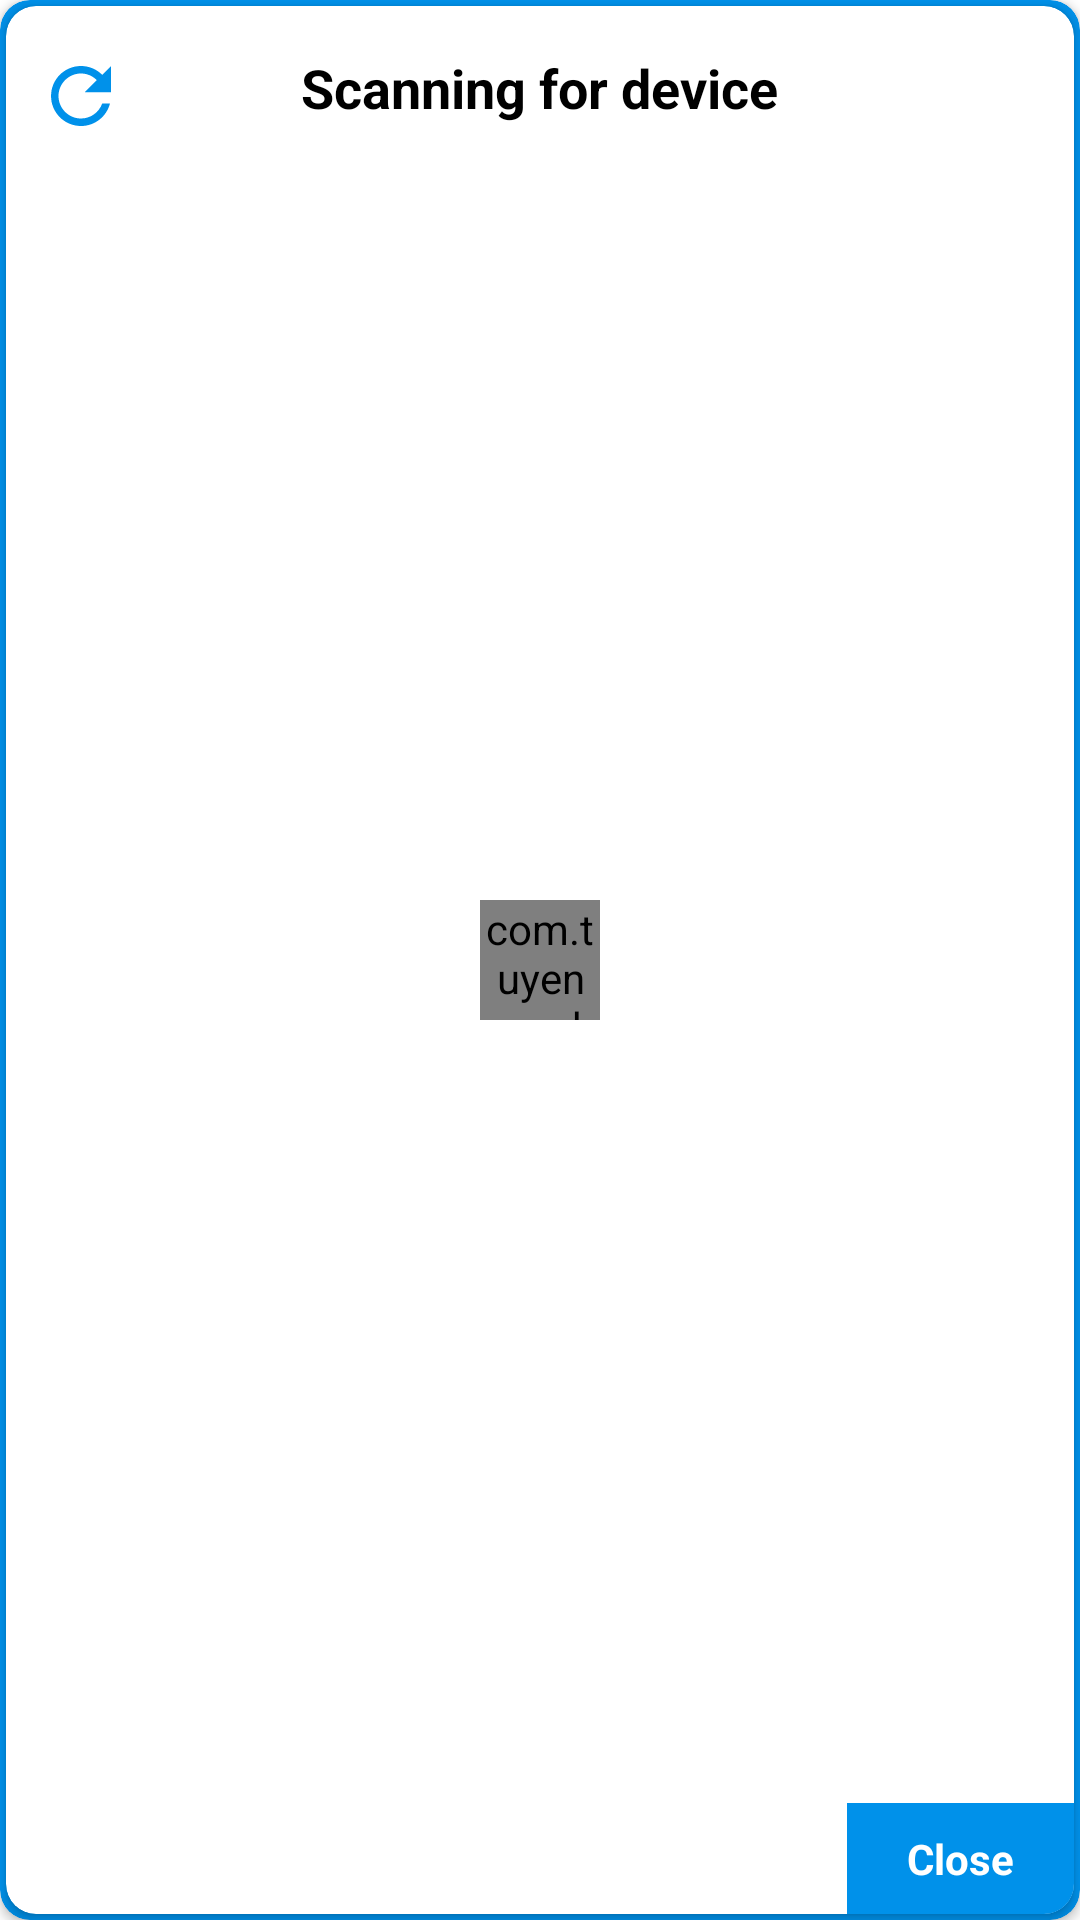

Locate icon controls on the screen. Image size 1080px×1920px, boxes as rect(x1, y1, x2, y2).
refresh: rect(51, 66, 111, 126)
